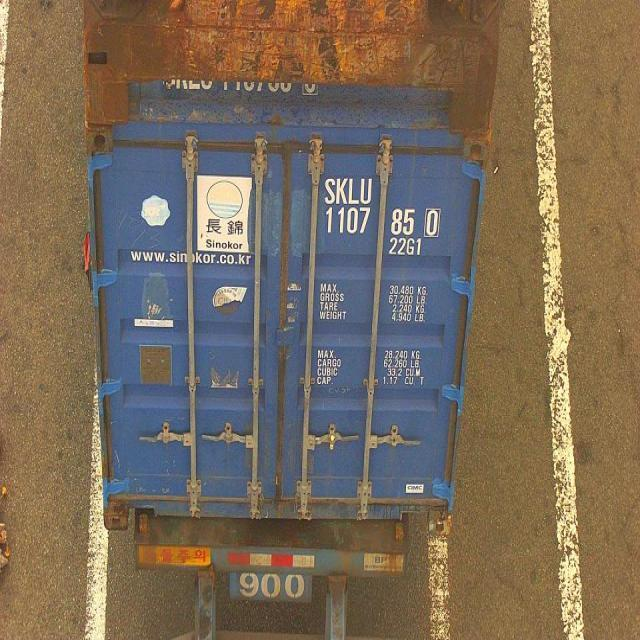ISO: (388, 234, 424, 258)
container_number: (323, 177, 441, 240)
